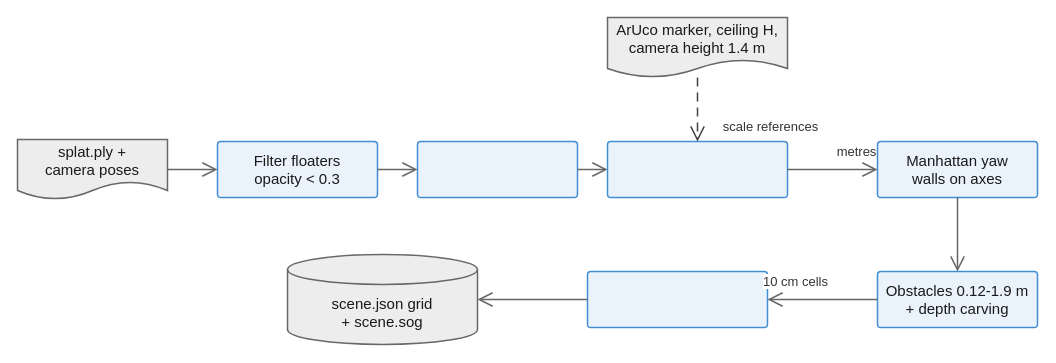
Some shapes in this 1056 by 363 pixel diagram are drawn without their labels. Here are the shapes that lost their labels. From the top down, the centre of each, then its label:
At (x=497, y=169): "Floor RANSAC level to +Y, y = 0".
At (x=697, y=169): "Metric scale priority + 12 % check".
At (x=677, y=299): "Walkable floor linked to camera path".
